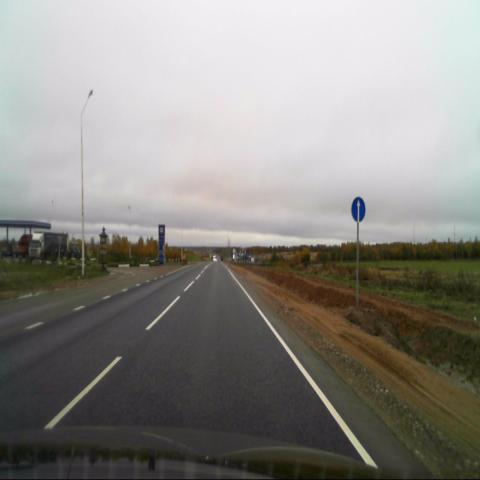4_1_1: (351, 195, 365, 222)
